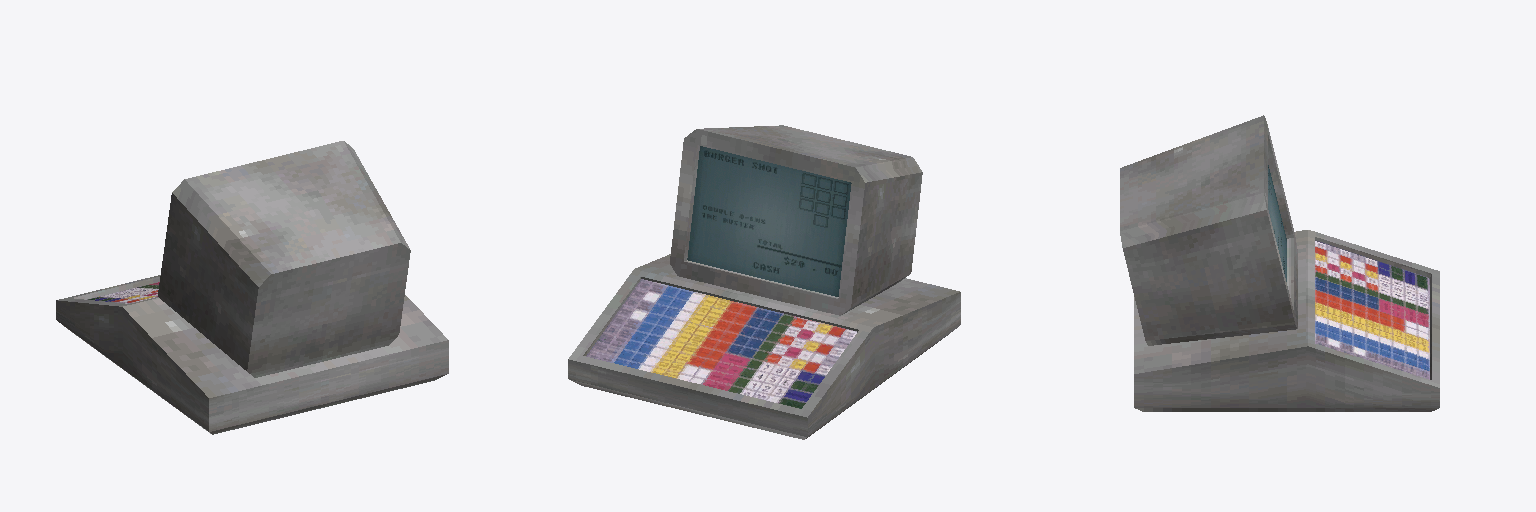
3 views of the same model, side by side, from view 1: azimuth 30°, elevation 25°; view 2: azimuth 150°, elevation 25°; view 3: azimuth 270°, elevation 25° (orthographic).
Parts seen in each view (by area): view 1: polySurface3; view 2: polySurface3; view 3: polySurface3.
Part boxes in pixels (left/top/right/bottom): polySurface3: left=56, top=141, right=448, bottom=434; polySurface3: left=568, top=125, right=960, bottom=439; polySurface3: left=1120, top=115, right=1439, bottom=411.
Bounding box in the file's own units: 0.8077 × 0.6574 × 0.9368.
Materials: 3 (3 with a texture image).